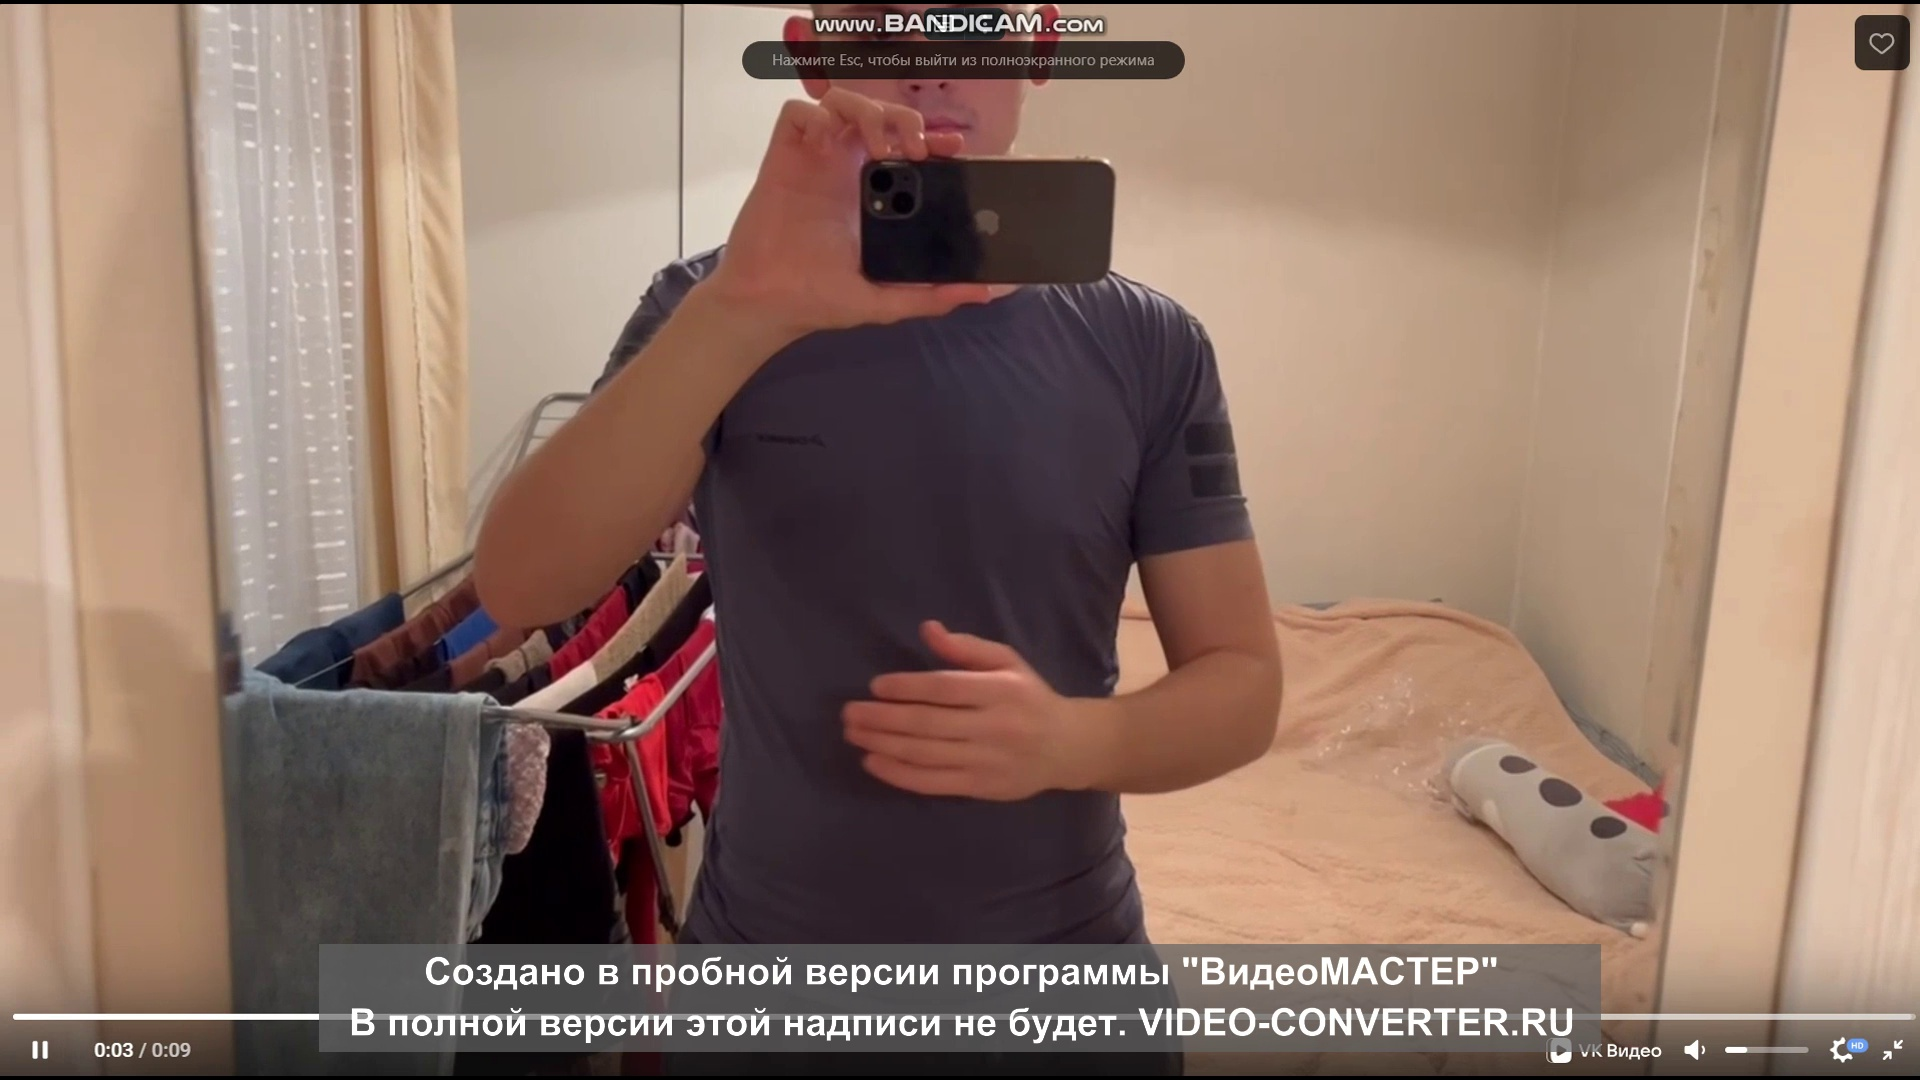Кисть: (837, 616, 1056, 804)
